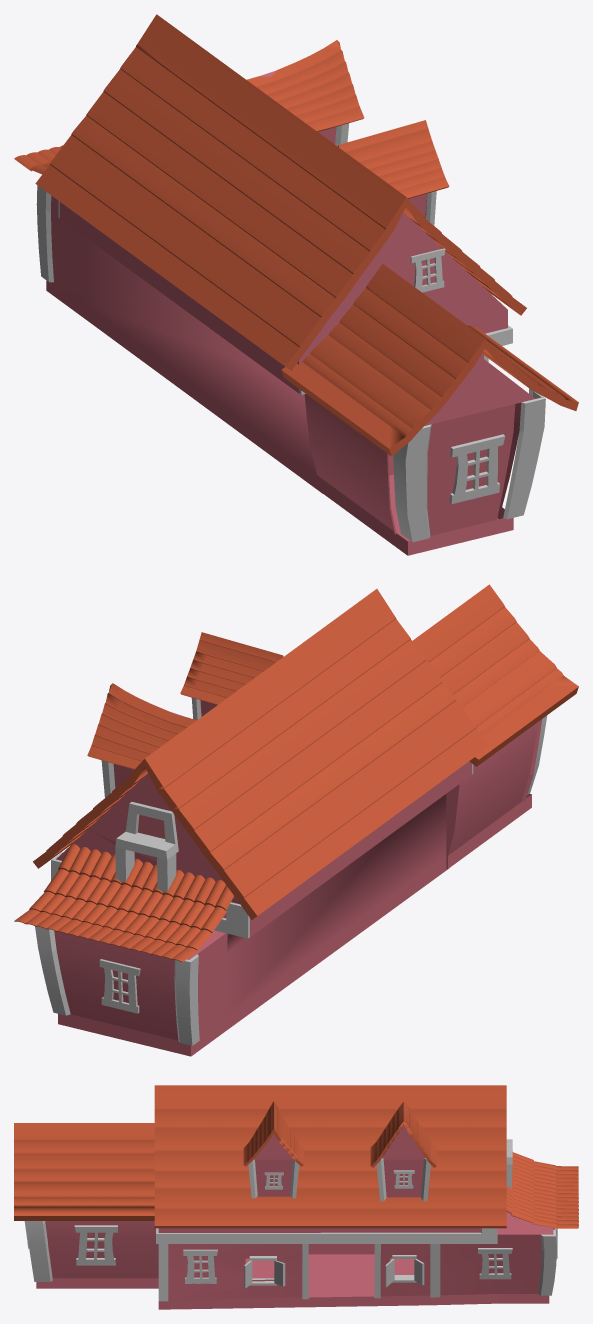
File: città.fbx
3 views of the same model, one above another, from view 1: azimuth 30°, elevation 25°; view 2: azimuth 150°, elevation 25°; view 3: azimuth 270°, elevation 25° (orthographic). The views are drawn at different scales.
Visible parts, largest first — view 1: 5; view 2: 5; view 3: 5.
Part boxes in pixels (box(x1,y1,x2,y2)): 5: box(14, 14, 578, 555); 5: box(14, 584, 578, 1056); 5: box(14, 1085, 578, 1309).
Size of the model in its own units: 266 by 295 by 765.
